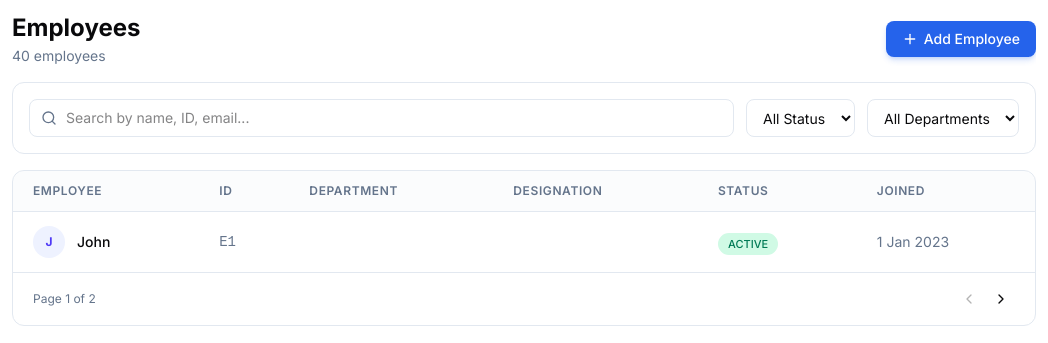
Scenario: Employees Page › should handle pagination
Expected: the text "Page 1 of 2" is shown, [33,291,96,307]
Click the 3rd button: (1001, 299) [987,285,1015,313]
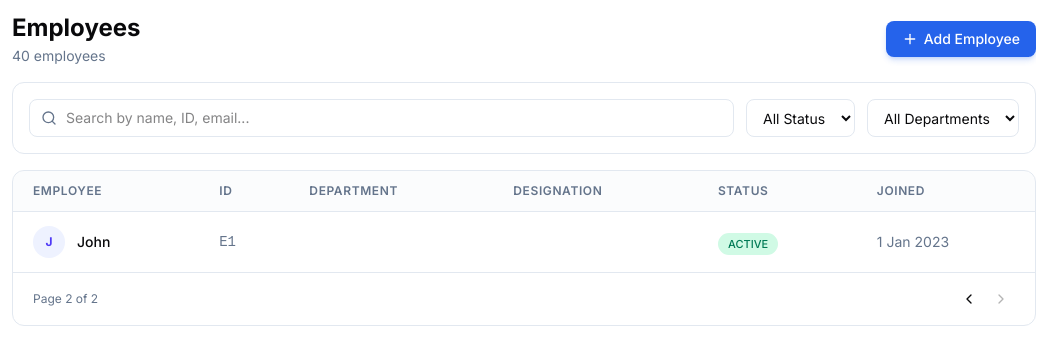
Now the text "Page 2 of 2" is shown, box [33,291,98,307]
